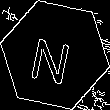N_N: (31, 26, 79, 84)
